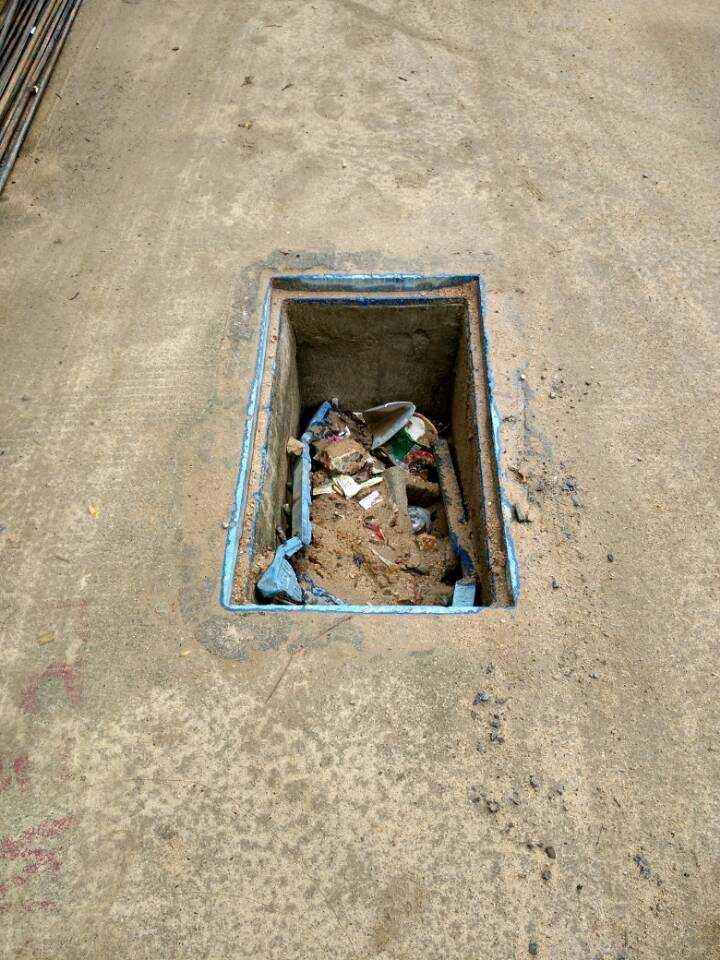lose: (220, 273, 521, 615)
